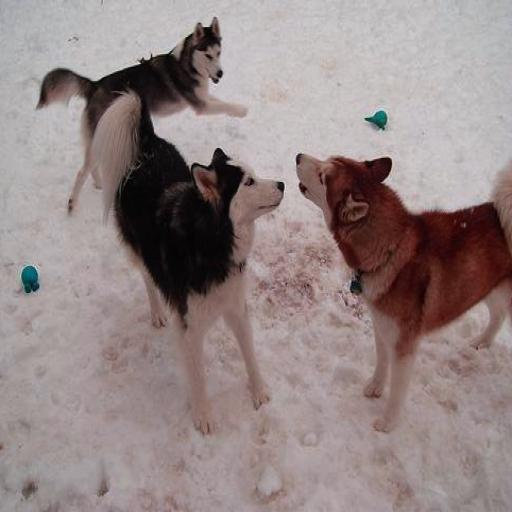dog_face: (194, 22, 229, 89)
